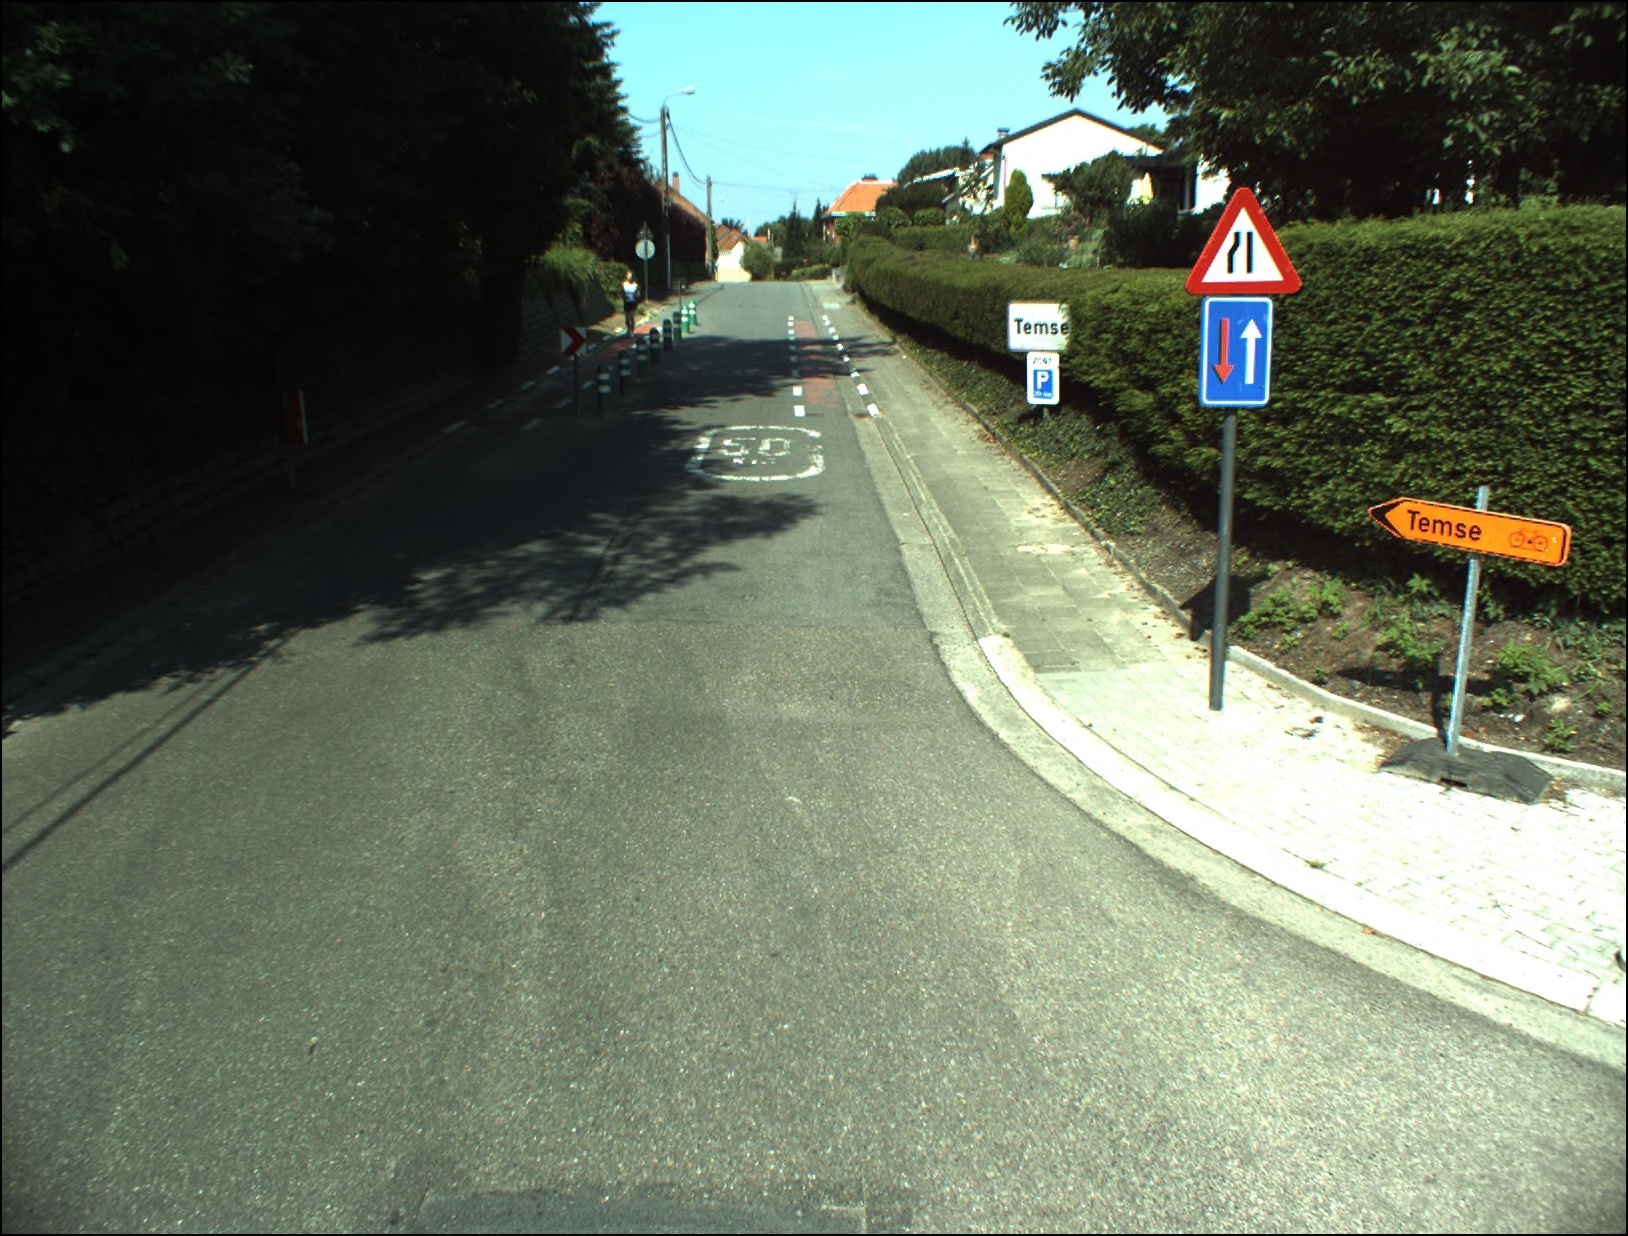parking: (1031, 366, 1053, 401)
roadnarrow1: (1196, 295, 1271, 406)
